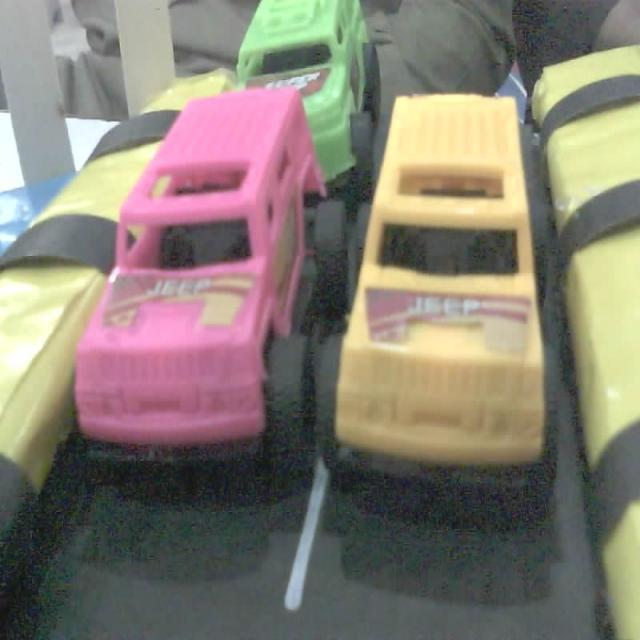ThreeCar: (65, 84, 362, 489), (333, 91, 582, 520), (223, 0, 379, 201)
